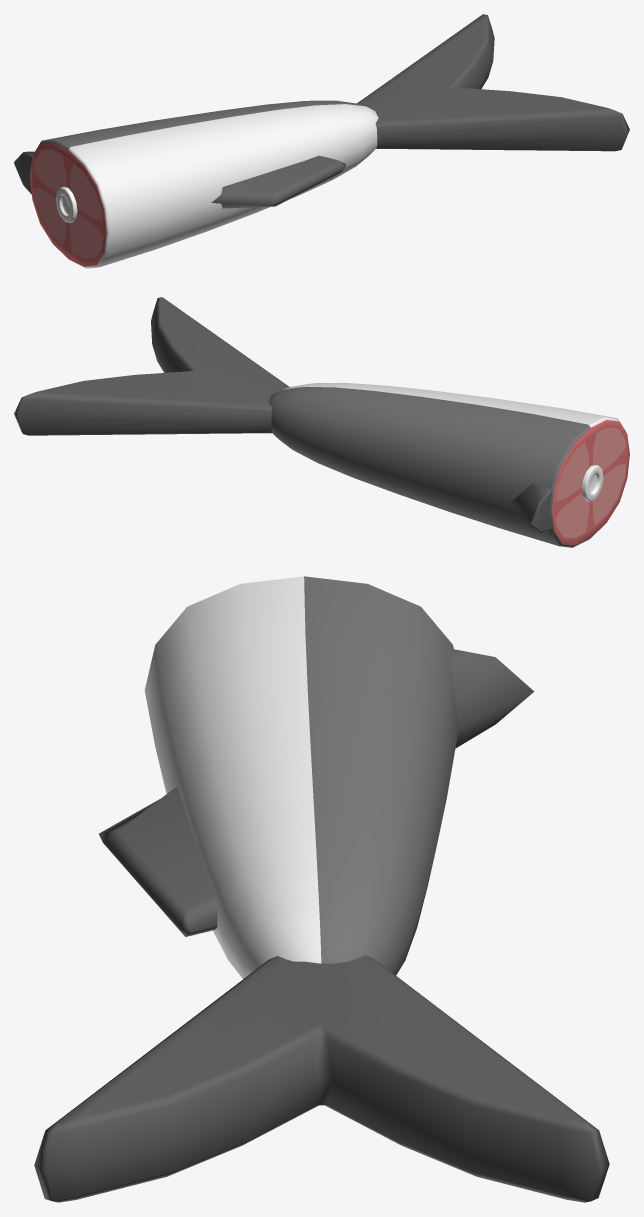
File: Sardine_3_Half_2.fbx
The picture shows the model from 3 angles, top to bottom: view 1: azimuth 30°, elevation 25°; view 2: azimuth 150°, elevation 25°; view 3: azimuth 270°, elevation 25°; orthographic projection. The views are drawn at different scales.
Parts seen in each view (by area): view 1: Sardine_3_Half_2; view 2: Sardine_3_Half_2; view 3: Sardine_3_Half_2.
Part boxes in pixels (x1,y1,x2,y2): Sardine_3_Half_2: (14,14,629,268); Sardine_3_Half_2: (14,297,629,547); Sardine_3_Half_2: (34,576,609,1202).
Size of the model in its own units: 17.71 by 3.85 by 8.81.
